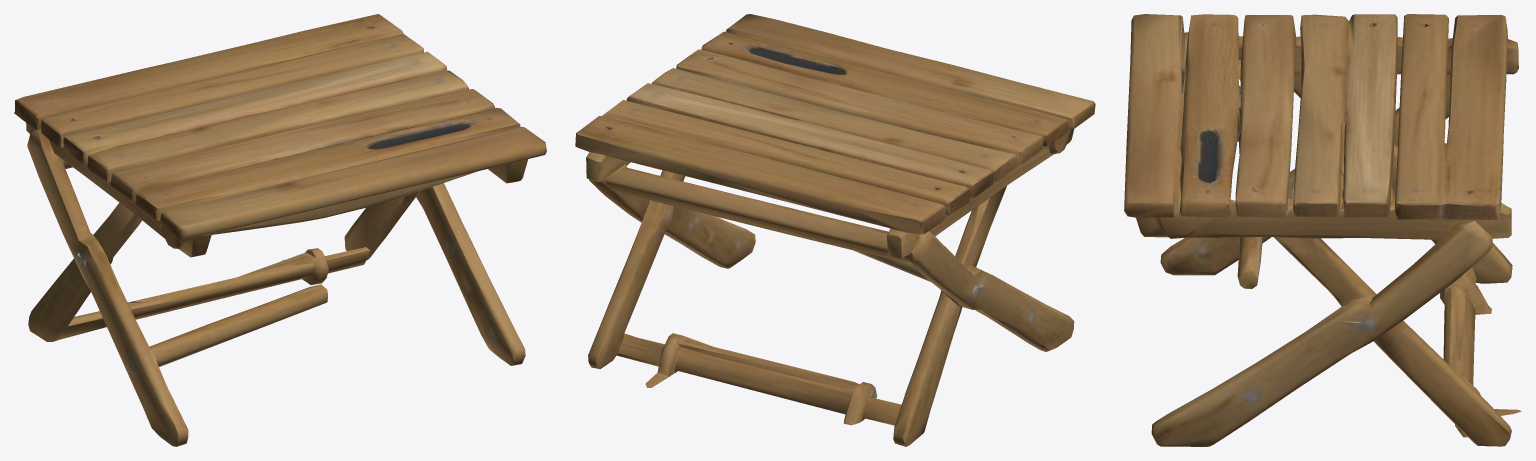
Rendered from camptable.glb.
3 views of the same model, side by side, from view 1: azimuth 30°, elevation 25°; view 2: azimuth 150°, elevation 25°; view 3: azimuth 270°, elevation 25° (orthographic). The views are drawn at different scales.
Parts seen in each view (by area): view 1: camptable; view 2: camptable; view 3: camptable.
Part boxes in pixels (x1,y1,x2,y2): camptable: [14, 14, 546, 446]; camptable: [575, 14, 1095, 446]; camptable: [1124, 14, 1521, 446].
Size of the model in its own units: 0.5829 by 0.36 by 0.5061.
Materials: 1 (1 with a texture image).
